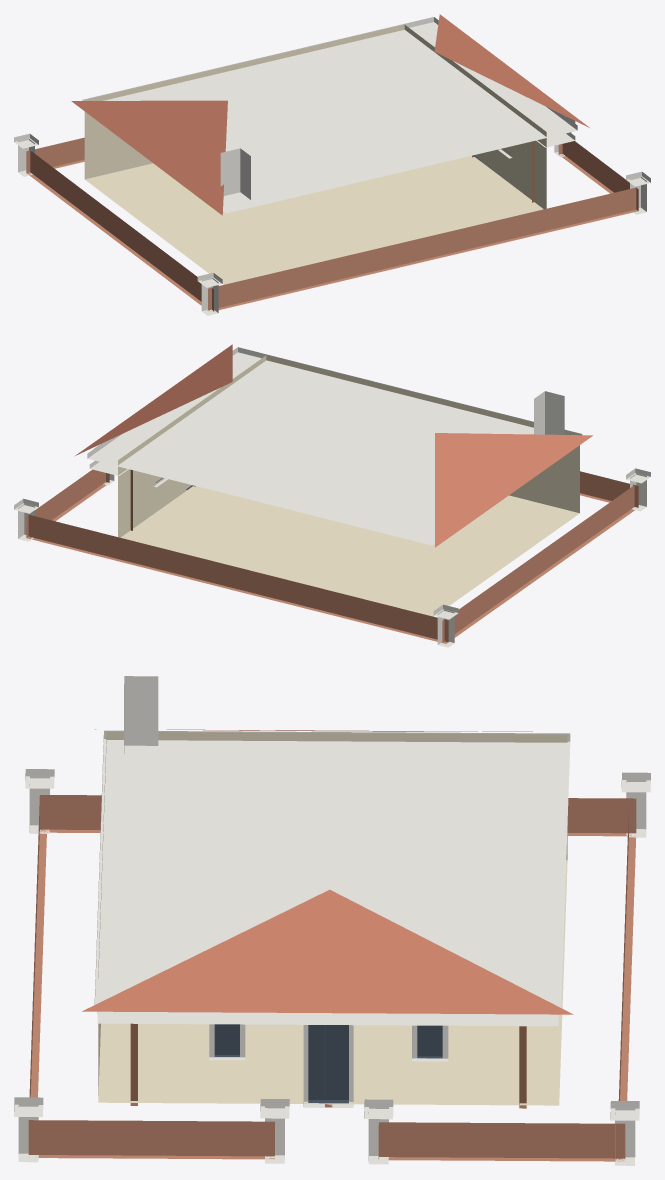
File: para_house_d.glb
3 renders of one model, top to bottom at view 1: azimuth 30°, elevation 25°; view 2: azimuth 150°, elevation 25°; view 3: azimuth 270°, elevation 25°, orthographic. The views are drawn at different scales.
Parts seen in each view (by area): view 1: para_house_d_lod0; view 2: para_house_d_lod0; view 3: para_house_d_lod0.
Boxes of the visible parts, x1,y1,x2,y2 form: para_house_d_lod0: (14, 14, 650, 315); para_house_d_lod0: (14, 344, 650, 647); para_house_d_lod0: (14, 676, 650, 1165).
Size of what is drawn, in the model's own units: 18.04 by 4.65 by 14.1.
